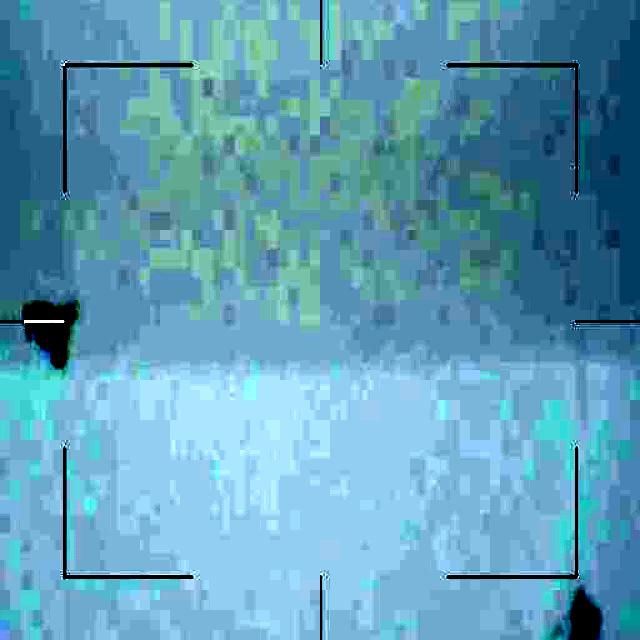bird: (16, 301, 78, 370)
